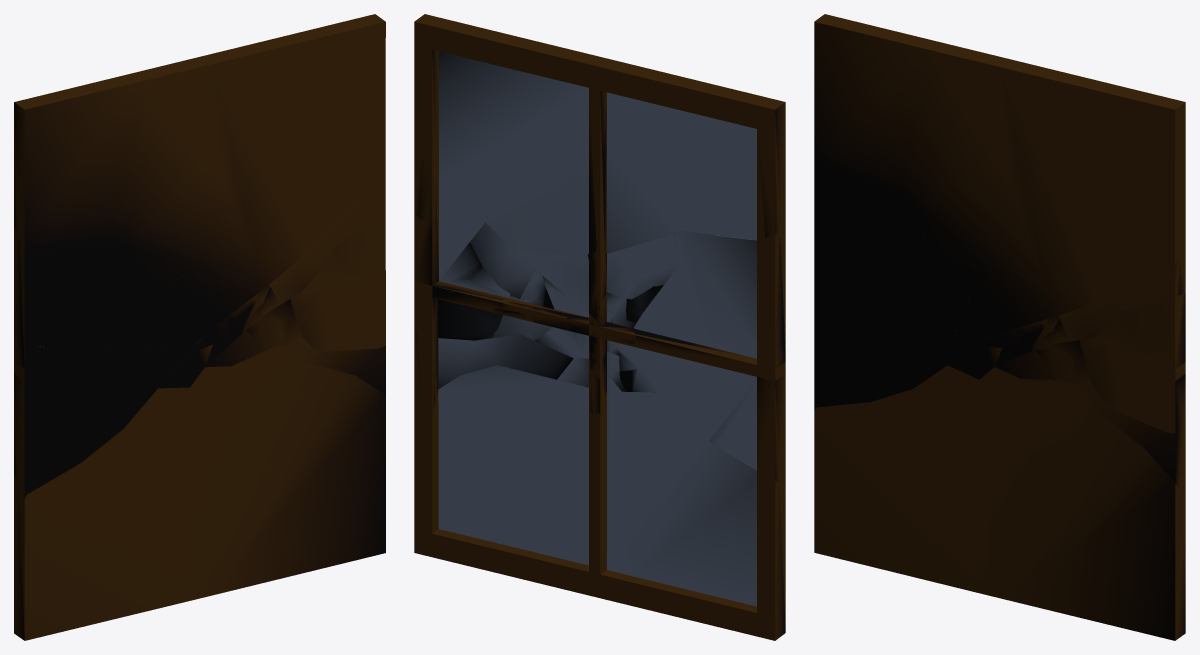
Rendered from Classic_Window_01_snaps001.fbx.
3 renders of one model, left to right at view 1: azimuth 30°, elevation 25°; view 2: azimuth 150°, elevation 25°; view 3: azimuth 330°, elevation 25°, orthographic.
Visible parts, largest first — view 1: Classic_Window_01_snaps001_frag_001_frag_003, Classic_Window_01_snaps001_frag_001_frag_001, Classic_Window_01_snaps001_frag_001_frag_002, Classic_Window_01_snaps001_frag_001_frag_004, Classic_Window_01_snaps001_frag_001_frag_005, Classic_Window_01_snaps001_frag_001_frag_006, Classic_Window_01_snaps001_frag_001_frag_012, Classic_Window_01_snaps001_frag_001_frag_011, Classic_Window_01_snaps001_frag_001_frag_007, Classic_Window_01_snaps001_frag_001_frag_010, Classic_Window_01_snaps001_frag_001_frag_008, Classic_Window_01_snaps001_frag_001_frag_013 (+10 smaller); view 2: Classic_Window_01_snaps001_frag_001_frag_003, Classic_Window_01_snaps001_frag_001_frag_001, Classic_Window_01_snaps001_frag_001_frag_002, Classic_Window_01_snaps001_frag_001_frag_004, Classic_Window_01_snaps001_frag_001_frag_006, Classic_Window_01_snaps001_frag_001_frag_005, Classic_Window_01_snaps001_frag_001_frag_007, Classic_Window_01_snaps001_frag_001_frag_012, Classic_Window_01_snaps001_frag_001_frag_011, Classic_Window_01_snaps001_frag_001_frag_008, Classic_Window_01_snaps001_frag_001_frag_010, Classic_Window_01_snaps001_frag_001_frag_009 (+12 smaller); view 3: Classic_Window_01_snaps001_frag_001_frag_003, Classic_Window_01_snaps001_frag_001_frag_001, Classic_Window_01_snaps001_frag_001_frag_002, Classic_Window_01_snaps001_frag_001_frag_004, Classic_Window_01_snaps001_frag_001_frag_005, Classic_Window_01_snaps001_frag_001_frag_006, Classic_Window_01_snaps001_frag_001_frag_012, Classic_Window_01_snaps001_frag_001_frag_011, Classic_Window_01_snaps001_frag_001_frag_007, Classic_Window_01_snaps001_frag_001_frag_010, Classic_Window_01_snaps001_frag_001_frag_009, Classic_Window_01_snaps001_frag_001_frag_008 (+10 smaller).
Part boxes in pixels (bbox=[...]): Classic_Window_01_snaps001_frag_001_frag_003: bbox=[123, 14, 385, 260]; Classic_Window_01_snaps001_frag_001_frag_001: bbox=[167, 360, 385, 606]; Classic_Window_01_snaps001_frag_001_frag_002: bbox=[14, 373, 249, 640]; Classic_Window_01_snaps001_frag_001_frag_004: bbox=[14, 75, 255, 264]; Classic_Window_01_snaps001_frag_001_frag_005: bbox=[14, 340, 176, 498]; Classic_Window_01_snaps001_frag_001_frag_006: bbox=[14, 226, 177, 349]; Classic_Window_01_snaps001_frag_001_frag_012: bbox=[290, 280, 385, 351]; Classic_Window_01_snaps001_frag_001_frag_011: bbox=[300, 208, 385, 292]; Classic_Window_01_snaps001_frag_001_frag_007: bbox=[292, 345, 385, 394]; Classic_Window_01_snaps001_frag_001_frag_010: bbox=[269, 229, 347, 304]; Classic_Window_01_snaps001_frag_001_frag_008: bbox=[190, 345, 297, 387]; Classic_Window_01_snaps001_frag_001_frag_013: bbox=[134, 247, 192, 290]; Classic_Window_01_snaps001_frag_001_frag_003: bbox=[414, 14, 672, 252]; Classic_Window_01_snaps001_frag_001_frag_001: bbox=[414, 365, 636, 606]; Classic_Window_01_snaps001_frag_001_frag_002: bbox=[561, 381, 785, 640]; Classic_Window_01_snaps001_frag_001_frag_004: bbox=[559, 74, 785, 254]; Classic_Window_01_snaps001_frag_001_frag_006: bbox=[634, 231, 785, 352]; Classic_Window_01_snaps001_frag_001_frag_005: bbox=[634, 337, 785, 490]; Classic_Window_01_snaps001_frag_001_frag_007: bbox=[414, 332, 513, 431]; Classic_Window_01_snaps001_frag_001_frag_012: bbox=[414, 279, 510, 340]; Classic_Window_01_snaps001_frag_001_frag_011: bbox=[414, 214, 502, 294]; Classic_Window_01_snaps001_frag_001_frag_008: bbox=[504, 334, 621, 413]; Classic_Window_01_snaps001_frag_001_frag_010: bbox=[455, 220, 534, 299]; Classic_Window_01_snaps001_frag_001_frag_009: bbox=[414, 152, 482, 231]; Classic_Window_01_snaps001_frag_001_frag_003: bbox=[927, 40, 1185, 305]; Classic_Window_01_snaps001_frag_001_frag_001: bbox=[957, 395, 1185, 640]; Classic_Window_01_snaps001_frag_001_frag_002: bbox=[814, 365, 1039, 587]; Classic_Window_01_snaps001_frag_001_frag_004: bbox=[814, 14, 1045, 283]; Classic_Window_01_snaps001_frag_001_frag_005: bbox=[814, 256, 965, 409]; Classic_Window_01_snaps001_frag_001_frag_006: bbox=[814, 159, 966, 335]; Classic_Window_01_snaps001_frag_001_frag_012: bbox=[1080, 339, 1185, 433]; Classic_Window_01_snaps001_frag_001_frag_011: bbox=[1089, 294, 1185, 371]; Classic_Window_01_snaps001_frag_001_frag_007: bbox=[1081, 392, 1185, 510]; Classic_Window_01_snaps001_frag_001_frag_010: bbox=[1058, 290, 1136, 341]; Classic_Window_01_snaps001_frag_001_frag_009: bbox=[1120, 233, 1185, 307]; Classic_Window_01_snaps001_frag_001_frag_008: bbox=[979, 367, 1087, 404].
Bounding box in the file's own units: 39.37 × 55.36 × 2.
